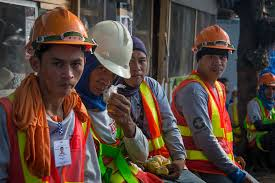Hard Hat: (27, 9, 93, 103), (89, 20, 132, 96), (192, 28, 237, 84), (258, 73, 274, 101)
Person: (2, 9, 90, 182), (170, 29, 254, 182), (118, 35, 203, 182), (87, 21, 148, 182), (247, 74, 275, 152)
Vest: (16, 43, 86, 182), (178, 50, 240, 176), (126, 50, 171, 167), (250, 86, 275, 132)
